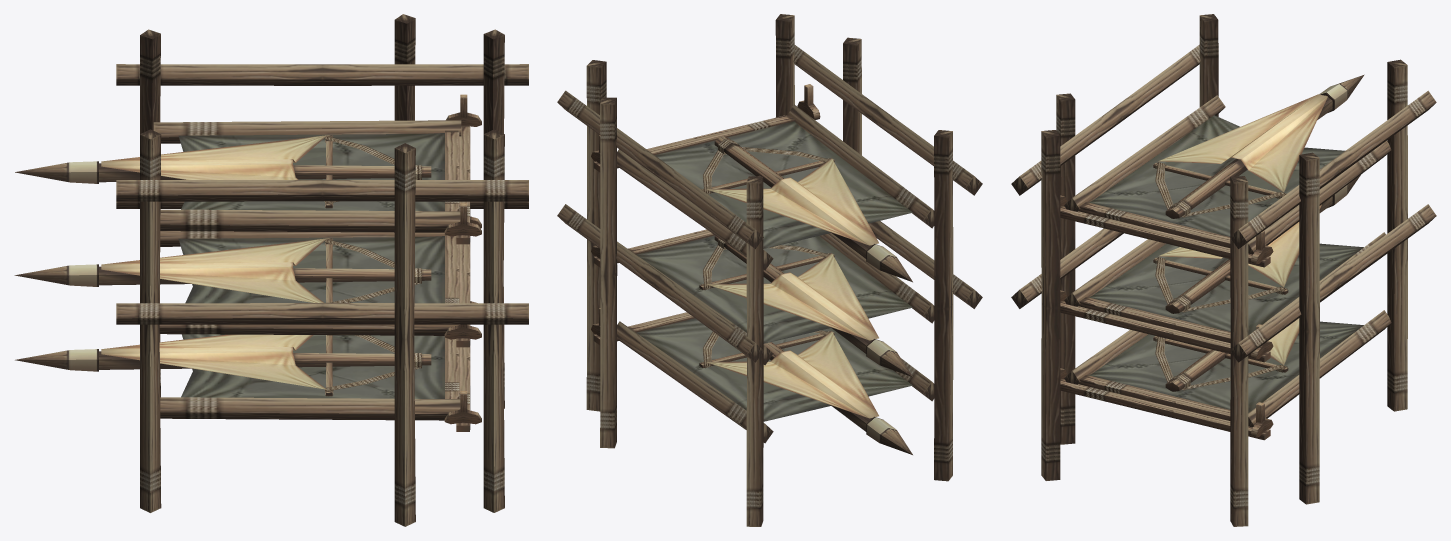
File: Lty_feixingqi02.FBX
3 views of the same model, side by side, from view 1: azimuth 30°, elevation 25°; view 2: azimuth 150°, elevation 25°; view 3: azimuth 270°, elevation 25° (orthographic). The views are drawn at different scales.
Visible parts, largest first — view 1: Lty_feixingqi02; view 2: Lty_feixingqi02; view 3: Lty_feixingqi02.
Part boxes in pixels (x1=…): Lty_feixingqi02: x1=14, y1=14, x2=528, y2=526; Lty_feixingqi02: x1=557, y1=14, x2=982, y2=526; Lty_feixingqi02: x1=1011, y1=14, x2=1436, y2=526.
Bounding box in the file's own units: 156 × 139 × 124.
